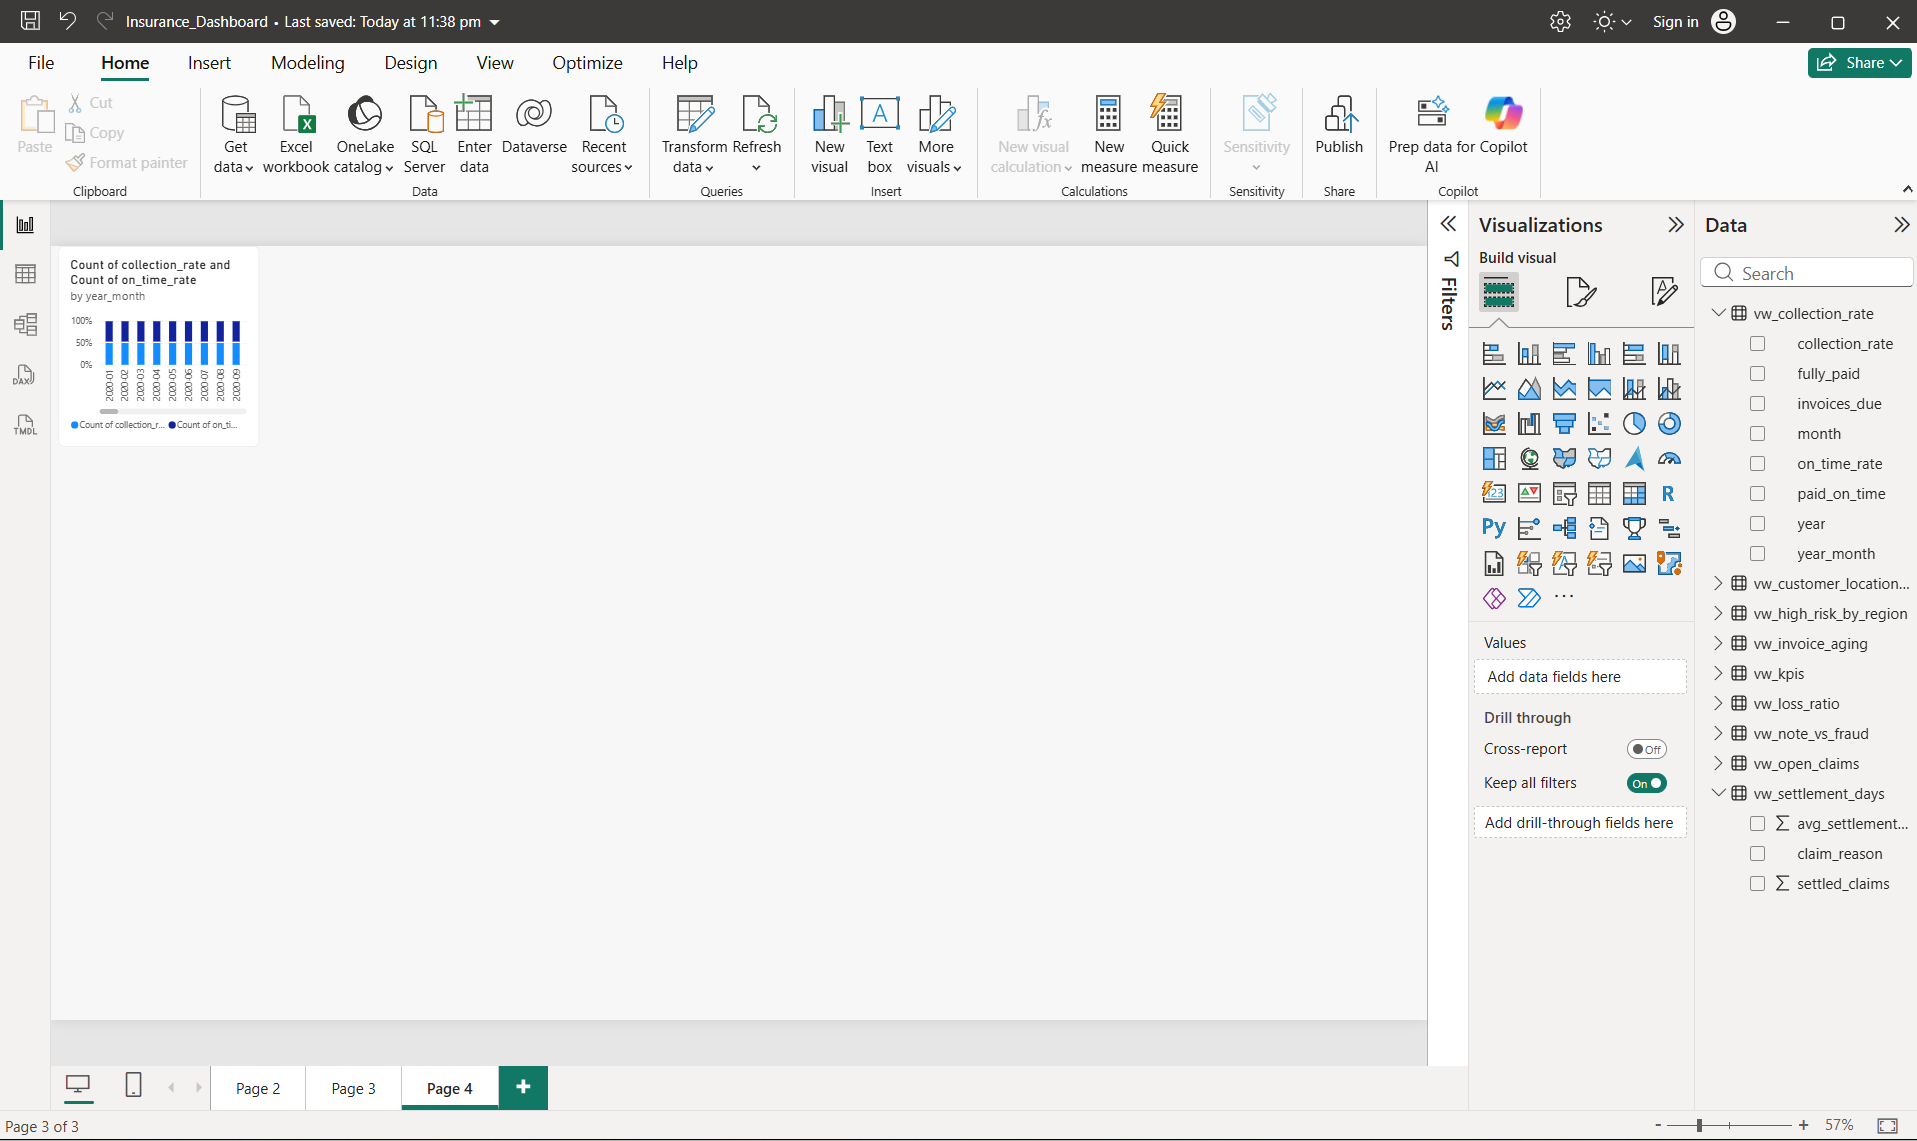

What the dashboard file says about the page in this screenshot:
{"tool":"powerbi","page":{"name":"Page 4","canvas":[1920,1080],"ordinal":2},"visuals":[{"type":"hundredPercentStackedColumnChart","fields":{"Category":["vw_collection_rate.year_month"],"Y":["CountNonNull(vw_collection_rate.collection_rate)","CountNonNull(vw_collection_rate.on_time_rate)"]},"box":[10,0,280,280],"z":0}]}

Visuals, with their boxes on the page's 1920x1080 design canvas (x1, y1, x2, y2). These are canvas units, not pixel positions in the 1917x1141 screenshot, which may show the page scaled, cropped or inside an application window:
hundredPercentStackedColumnChart - vw_collection_rate.year_month x CountNonNull(vw_collection_rate.collection_rate): <box>10,0,290,280</box>
